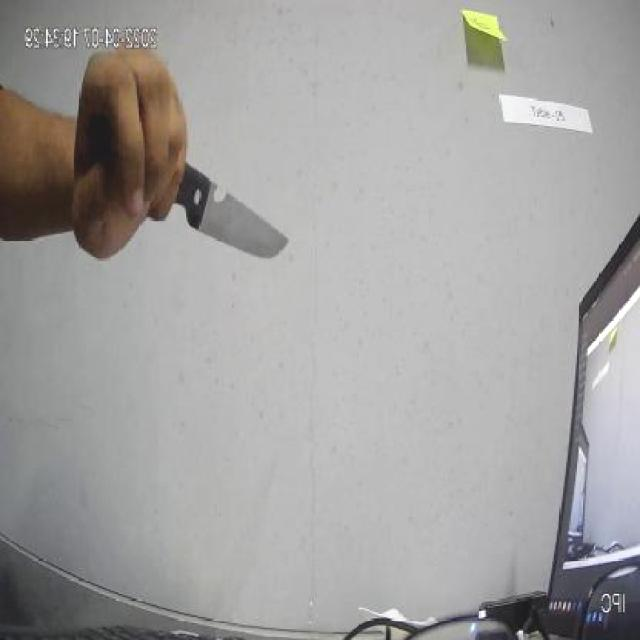knife: (111, 131, 315, 255)
